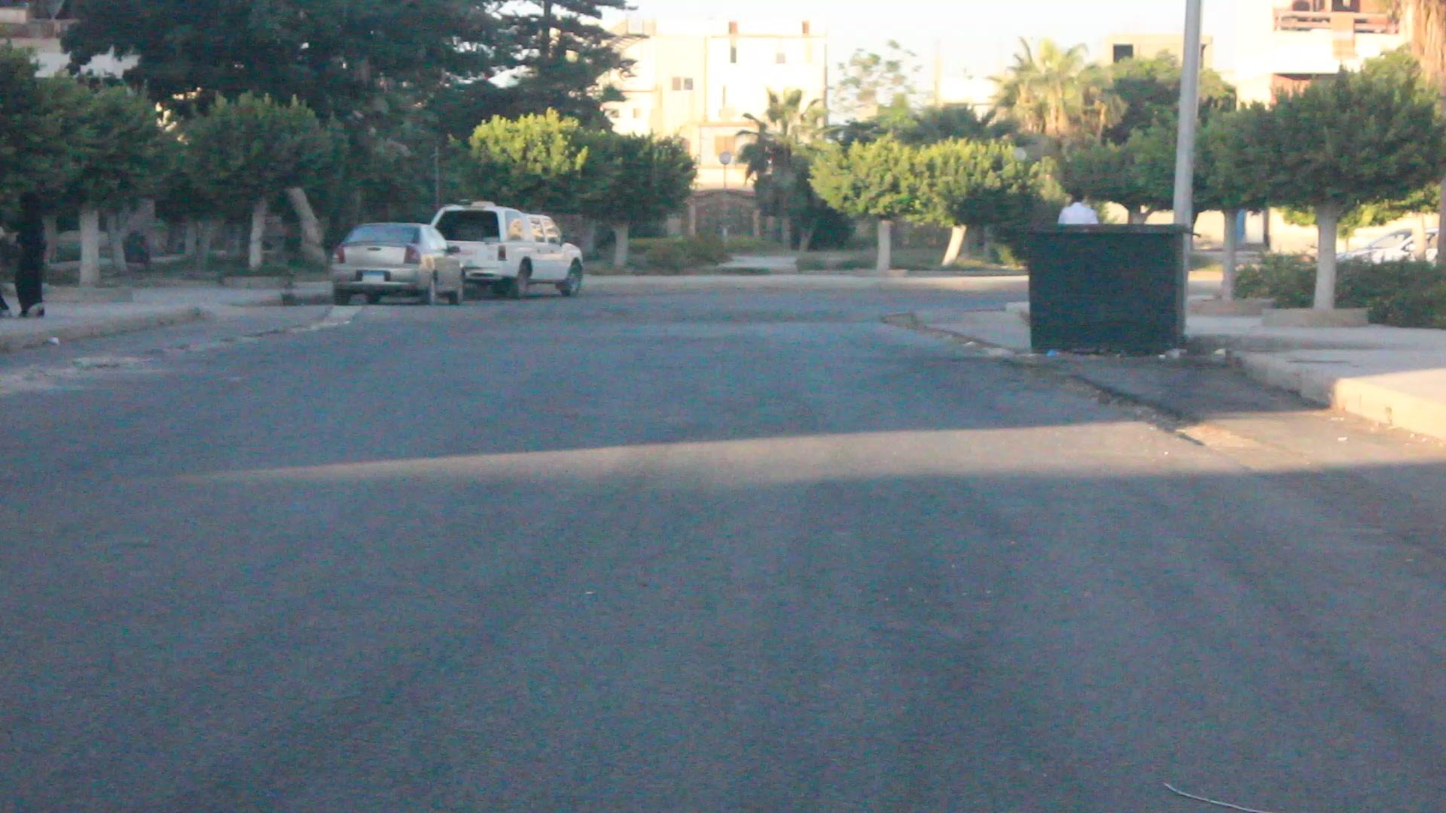Bump: (290, 292, 911, 329)
